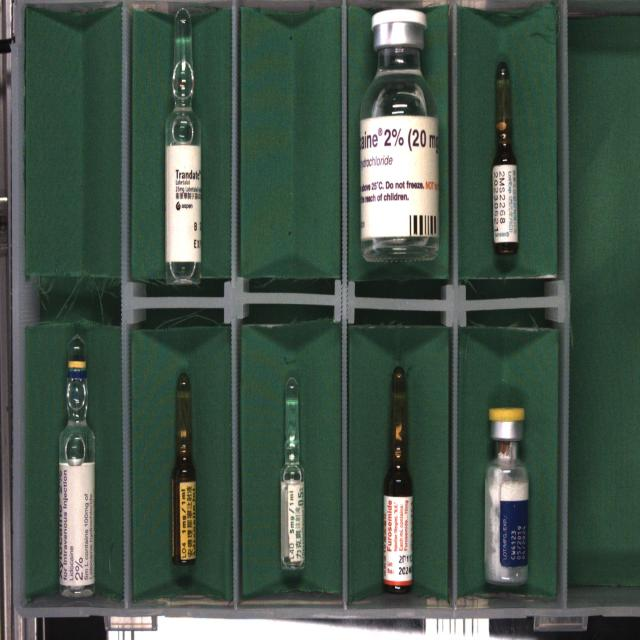Vials: (361, 9, 439, 262), (485, 407, 529, 585)
